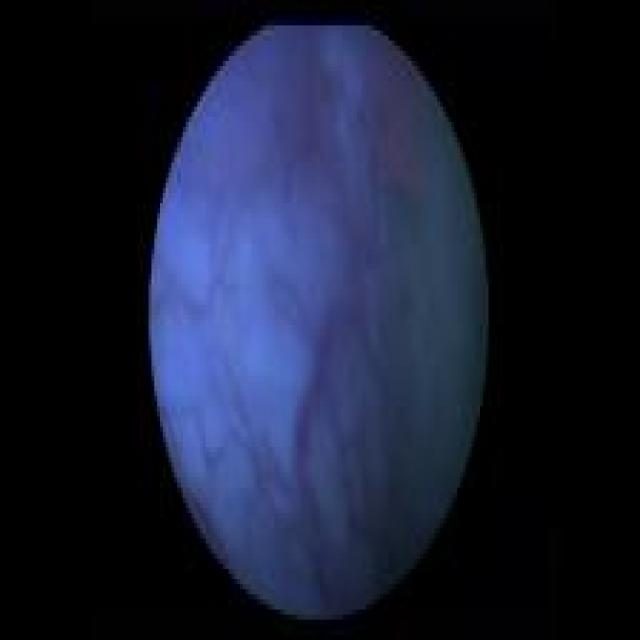blur: (149, 21, 489, 619)
